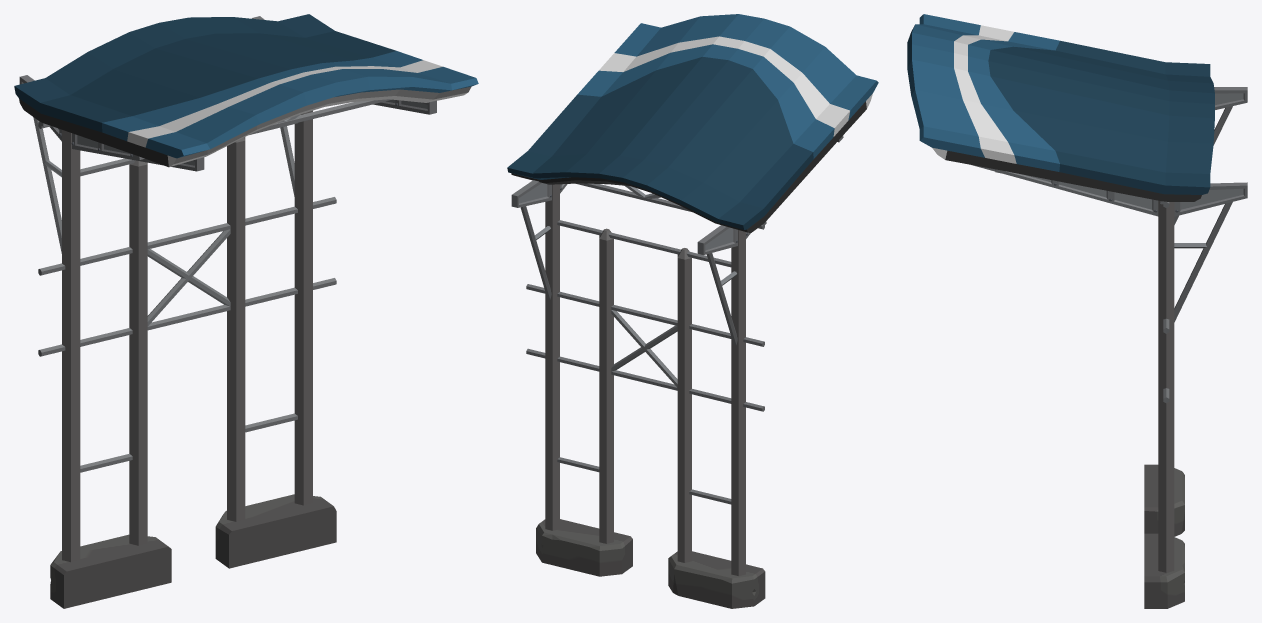
The model's file is SM_Bld_Grandstand_Roof_01.fbx.
3 renders of one model, left to right at view 1: azimuth 30°, elevation 25°; view 2: azimuth 150°, elevation 25°; view 3: azimuth 270°, elevation 25°, orthographic. The views are drawn at different scales.
Visible parts, largest first — view 1: SM_Bld_Grandstand_Roof_01; view 2: SM_Bld_Grandstand_Roof_01; view 3: SM_Bld_Grandstand_Roof_01.
Boxes of the visible parts, <box> form: SM_Bld_Grandstand_Roof_01: <box>14,14,478,608</box>; SM_Bld_Grandstand_Roof_01: <box>507,14,878,608</box>; SM_Bld_Grandstand_Roof_01: <box>907,14,1247,608</box>.
Size of the model in its own units: 1250 by 2398 by 1458.
Materials: 1 (1 with a texture image).
